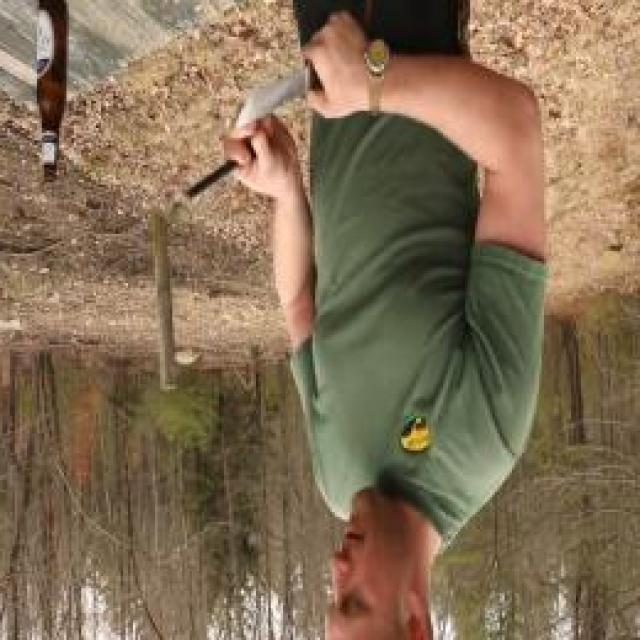knife: (226, 6, 360, 150)
